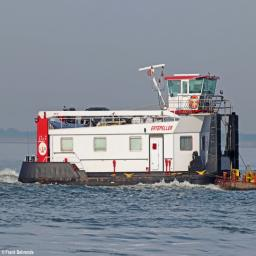tugboat: (17, 62, 244, 191)
